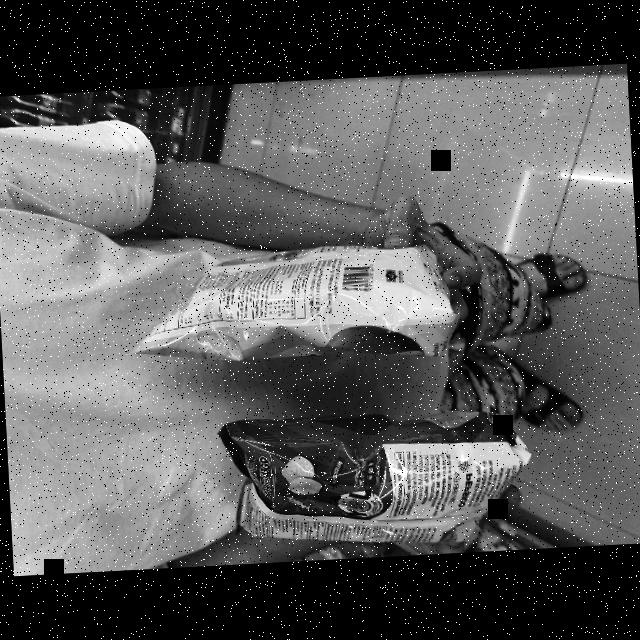snack_bag: (118, 218, 470, 382), (207, 406, 524, 560)
